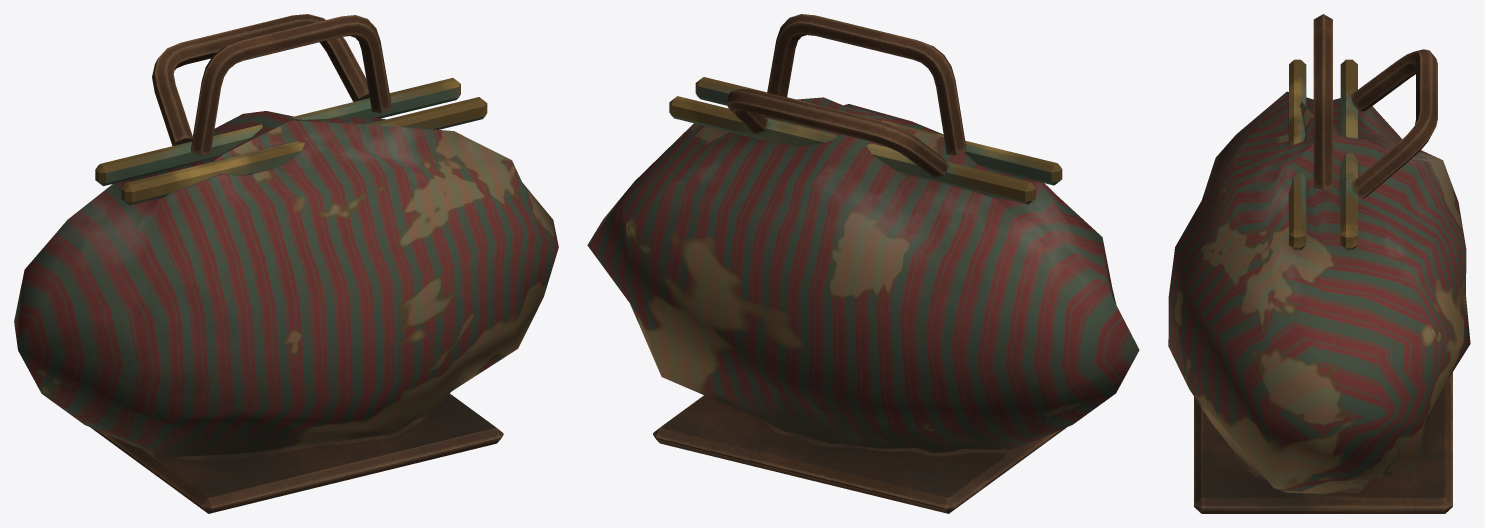
The model's file is CarpetBag.fbx.
3 renders of one model, left to right at view 1: azimuth 30°, elevation 25°; view 2: azimuth 150°, elevation 25°; view 3: azimuth 270°, elevation 25°, orthographic.
Parts seen in each view (by area): view 1: CarpetBag; view 2: CarpetBag; view 3: CarpetBag.
Boxes of the visible parts, x1,y1,x2,y2 form: CarpetBag: [14, 14, 558, 513]; CarpetBag: [587, 14, 1139, 513]; CarpetBag: [1168, 14, 1470, 513].
Size of the model in its own units: 2.13 by 1.57 by 1.05.
1 material, 1 textured.
